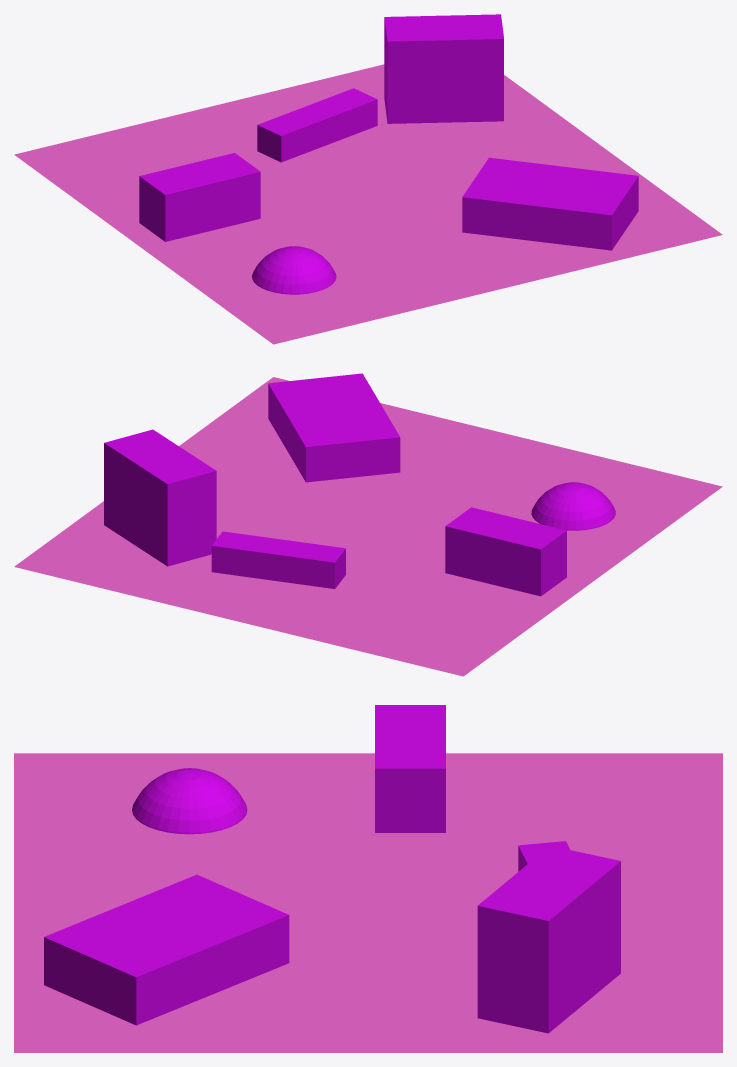
Rendered from Toxxic_Sceno.fbx.
3 renders of one model, top to bottom at view 1: azimuth 30°, elevation 25°; view 2: azimuth 150°, elevation 25°; view 3: azimuth 270°, elevation 25°, orthographic. The views are drawn at different scales.
Parts seen in each view (by area): view 1: Moquette, Battlestation, Lit, Baignoire, Coffre, Forme Bizarre; view 2: Moquette, Battlestation, Lit, Baignoire, Coffre, Forme Bizarre; view 3: Moquette, Lit, Battlestation, Baignoire, Forme Bizarre, Coffre.
Boxes of the visible parts, x1,y1,x2,y2 form: Moquette: (14,64,722,344); Battlestation: (384,14,503,123); Lit: (462,157,638,250); Baignoire: (139,153,260,241); Coffre: (257,88,377,162); Forme Bizarre: (252,246,336,294); Moquette: (14,377,722,676); Battlestation: (104,429,216,566); Lit: (268,373,400,482); Baignoire: (445,507,566,596); Coffre: (211,531,345,588); Forme Bizarre: (531,482,615,530); Moquette: (14,753,722,1052); Lit: (44,874,289,1025); Battlestation: (477,846,620,1033); Baignoire: (375,705,445,832); Forme Bizarre: (132,768,247,834); Coffre: (518,841,570,871).
Bounding box in the file's own units: 800 × 237 × 800.
